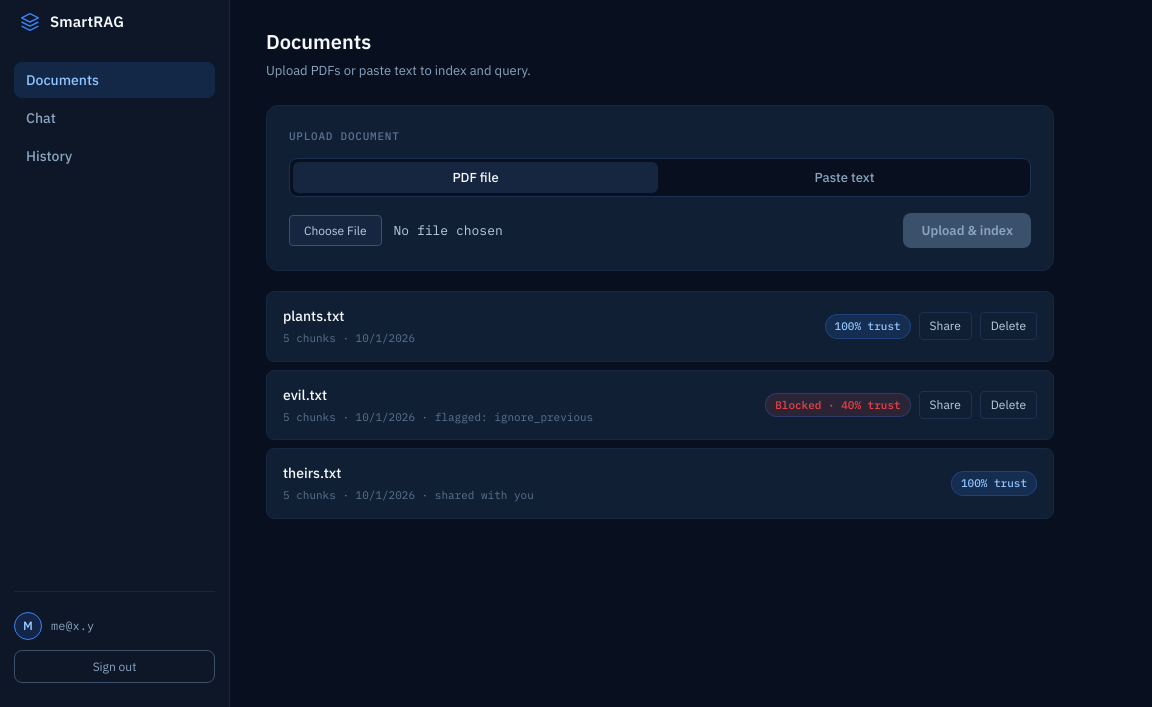
chat › sends the selected documents and renders linked citations, sources, and timings
This screenshot has width=1152, height=707.
Expected: the text "plants.txt" is shown, left=283, top=307, right=344, bottom=325
Click the button "Chat" at coordinates (114, 118), box left=14, top=100, right=215, bottom=136
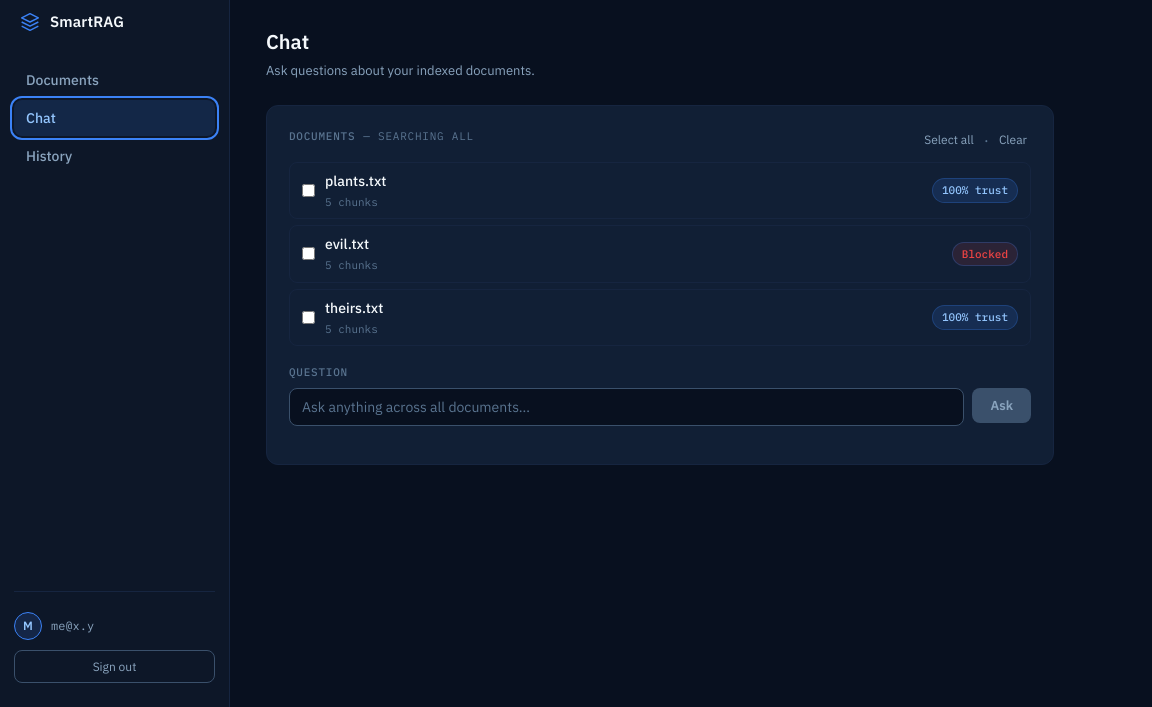
Click the checkbox labelled "plants.txt" at coordinates (308, 190), box left=302, top=184, right=315, bottom=197
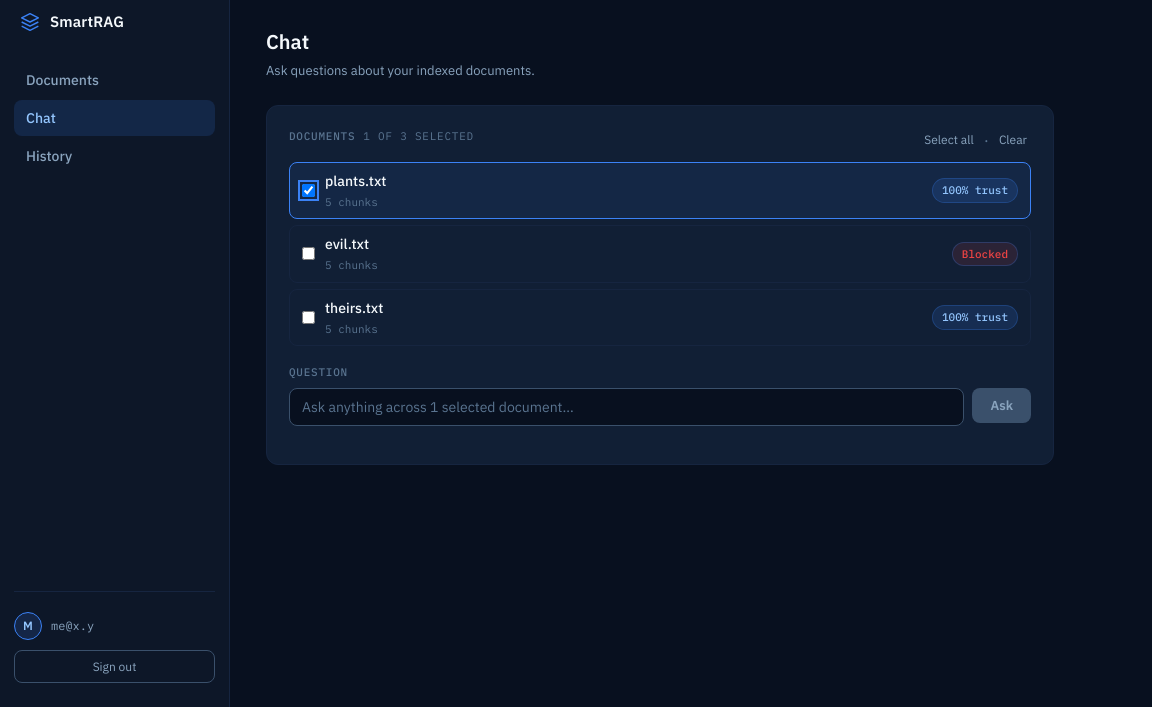
Type "What does chlorophyll absorb?" into the field labelled "Question" at coordinates (627, 406), box left=289, top=388, right=964, bottom=426
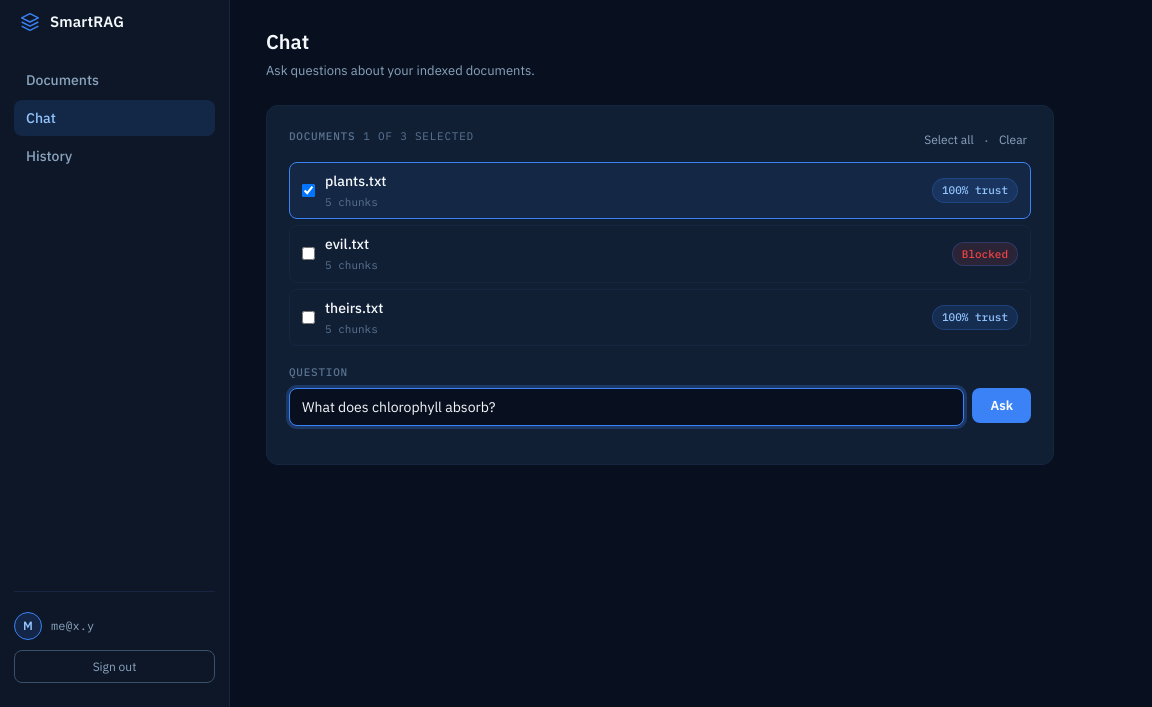
Click the button "Ask" at coordinates (1002, 405), box left=972, top=388, right=1031, bottom=422
(page scrolled)
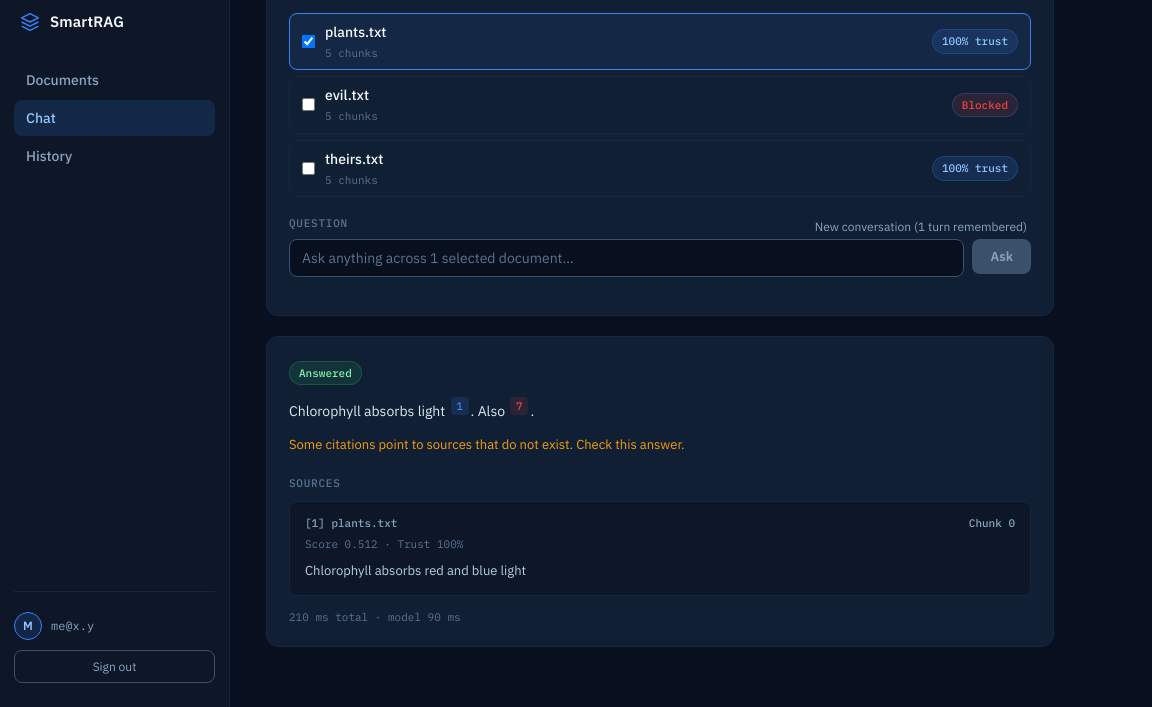
Expected: the text "citations point to sources that do not exist" is shown, left=289, top=436, right=685, bottom=454
Expected: the text "Score 0.512 · Trust 100%" is shown, left=305, top=537, right=463, bottom=551
Expected: the text "210 ms total · model 90 ms" is shown, left=289, top=610, right=461, bottom=624
